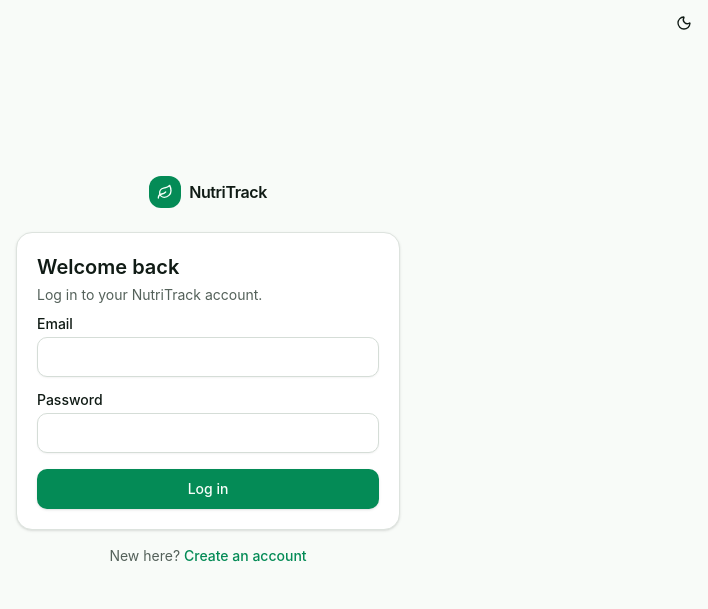
Test: LoginPage › shows the server's error
Type "hari@example.com" into the field labelled "Email".
click(208, 357); type("hari@example.com")  # box [37,337,379,377]
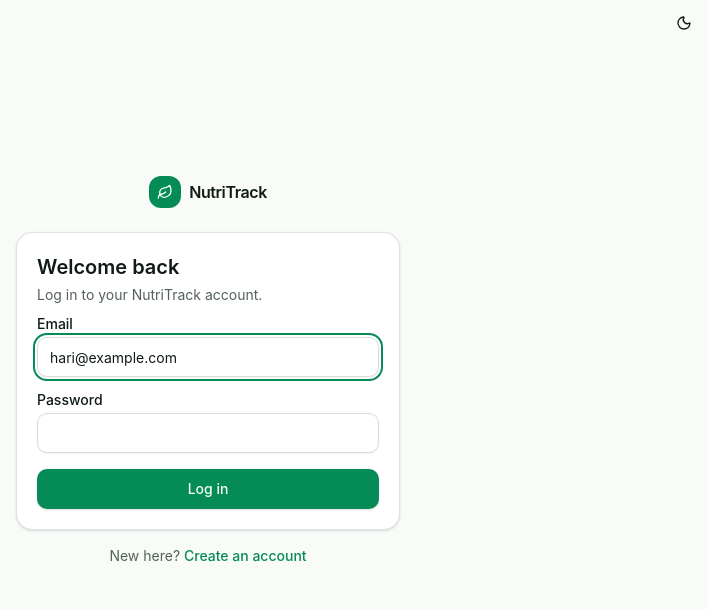
Type "wrong" into the password field labelled "Password".
click(208, 433); type("wrong")  # box [37,413,379,453]
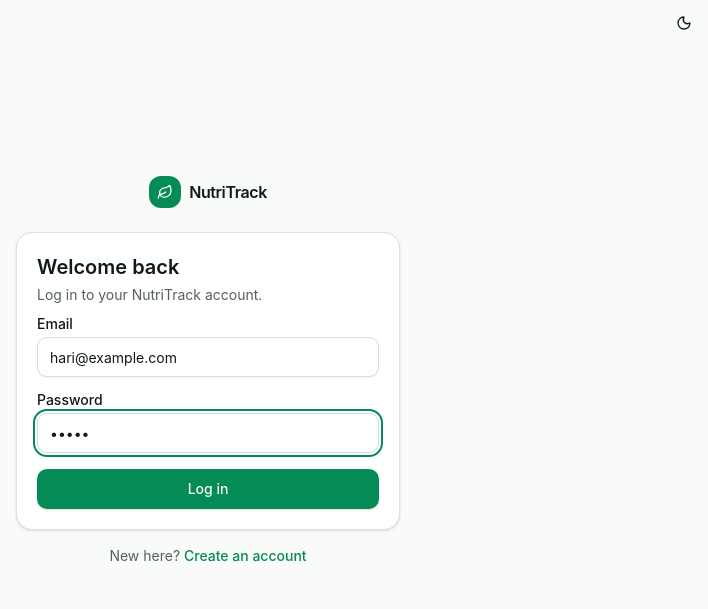
Click the button "Log in".
click(208, 489)  # box [37,469,379,509]
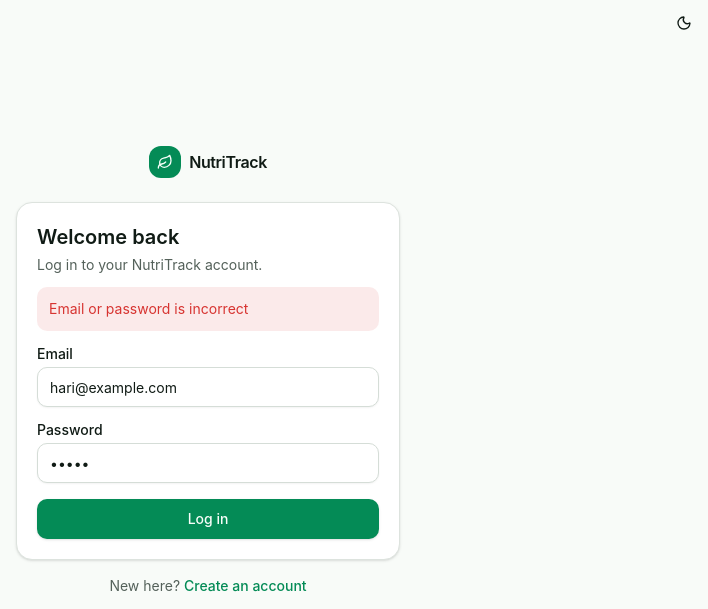
Expected: the message reads "Email or password is incorrect", [49,300,248,317]
